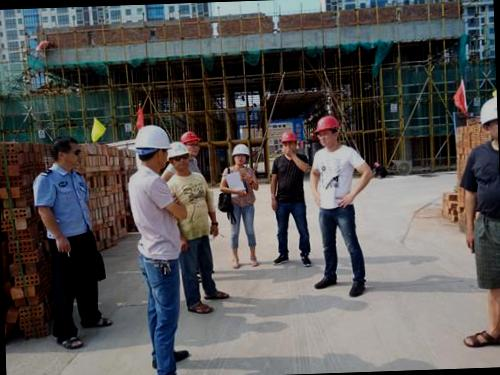no_helmet: (46, 129, 88, 174)
